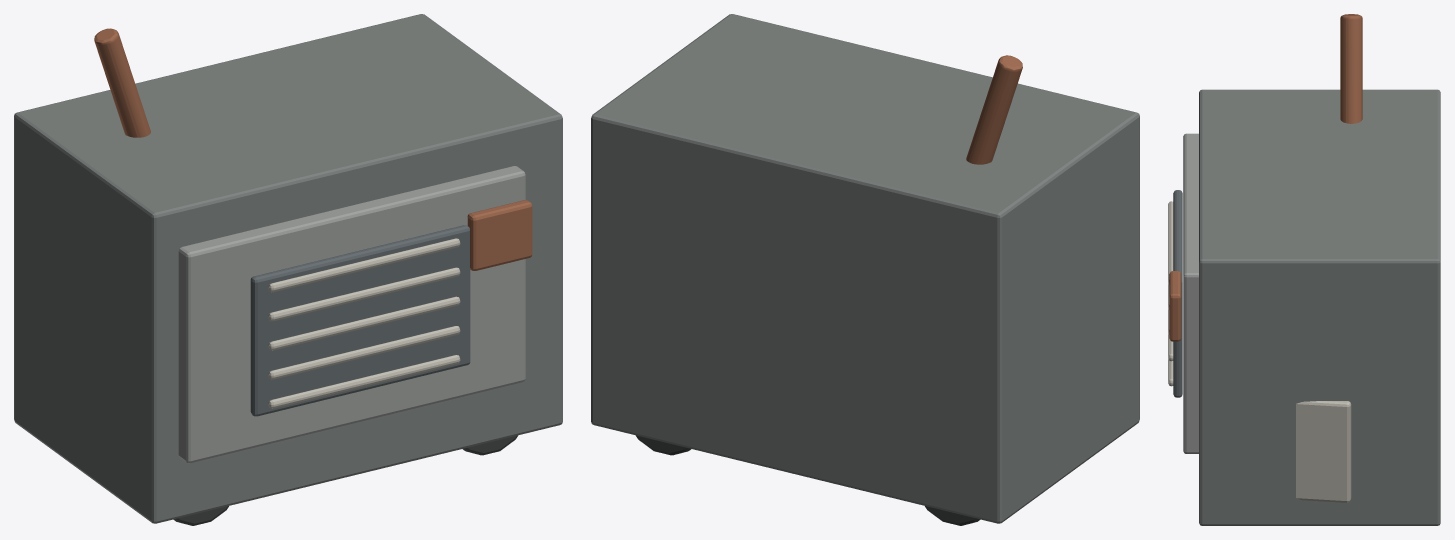
Rendered from Apoc_Prop_Abandoned_Generator.fbx.
3 renders of one model, left to right at view 1: azimuth 30°, elevation 25°; view 2: azimuth 150°, elevation 25°; view 3: azimuth 270°, elevation 25°, orthographic. The views are drawn at different scales.
Parts seen in each view (by area): view 1: Apoc_Prop_Abandoned_Generator; view 2: Apoc_Prop_Abandoned_Generator; view 3: Apoc_Prop_Abandoned_Generator.
Part boxes in pixels (left/top/right/bottom): Apoc_Prop_Abandoned_Generator: left=14, top=14, right=562, bottom=525; Apoc_Prop_Abandoned_Generator: left=591, top=14, right=1139, bottom=525; Apoc_Prop_Abandoned_Generator: left=1168, top=14, right=1440, bottom=525.
Size of the model in its own units: 1.58 by 1.59 by 1.04.
